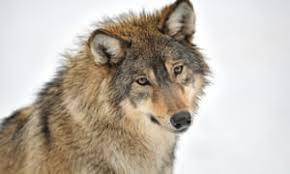Wolf: (0, 0, 216, 173)
